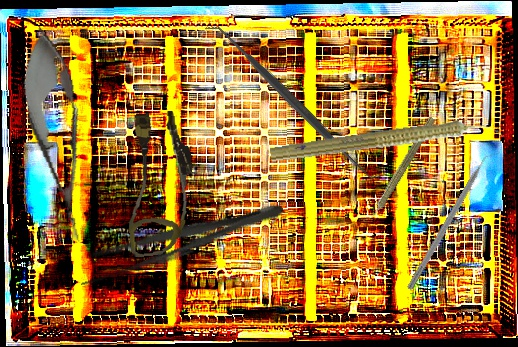Cannula: (117, 109, 201, 258)
Chopper: (406, 145, 502, 296)
Dressing Forceps: (72, 191, 289, 292)
Handpiece: (269, 110, 503, 173), (361, 113, 438, 229)
Micro Scissor: (11, 22, 104, 249)
Spatula Surgical: (203, 12, 383, 192)
